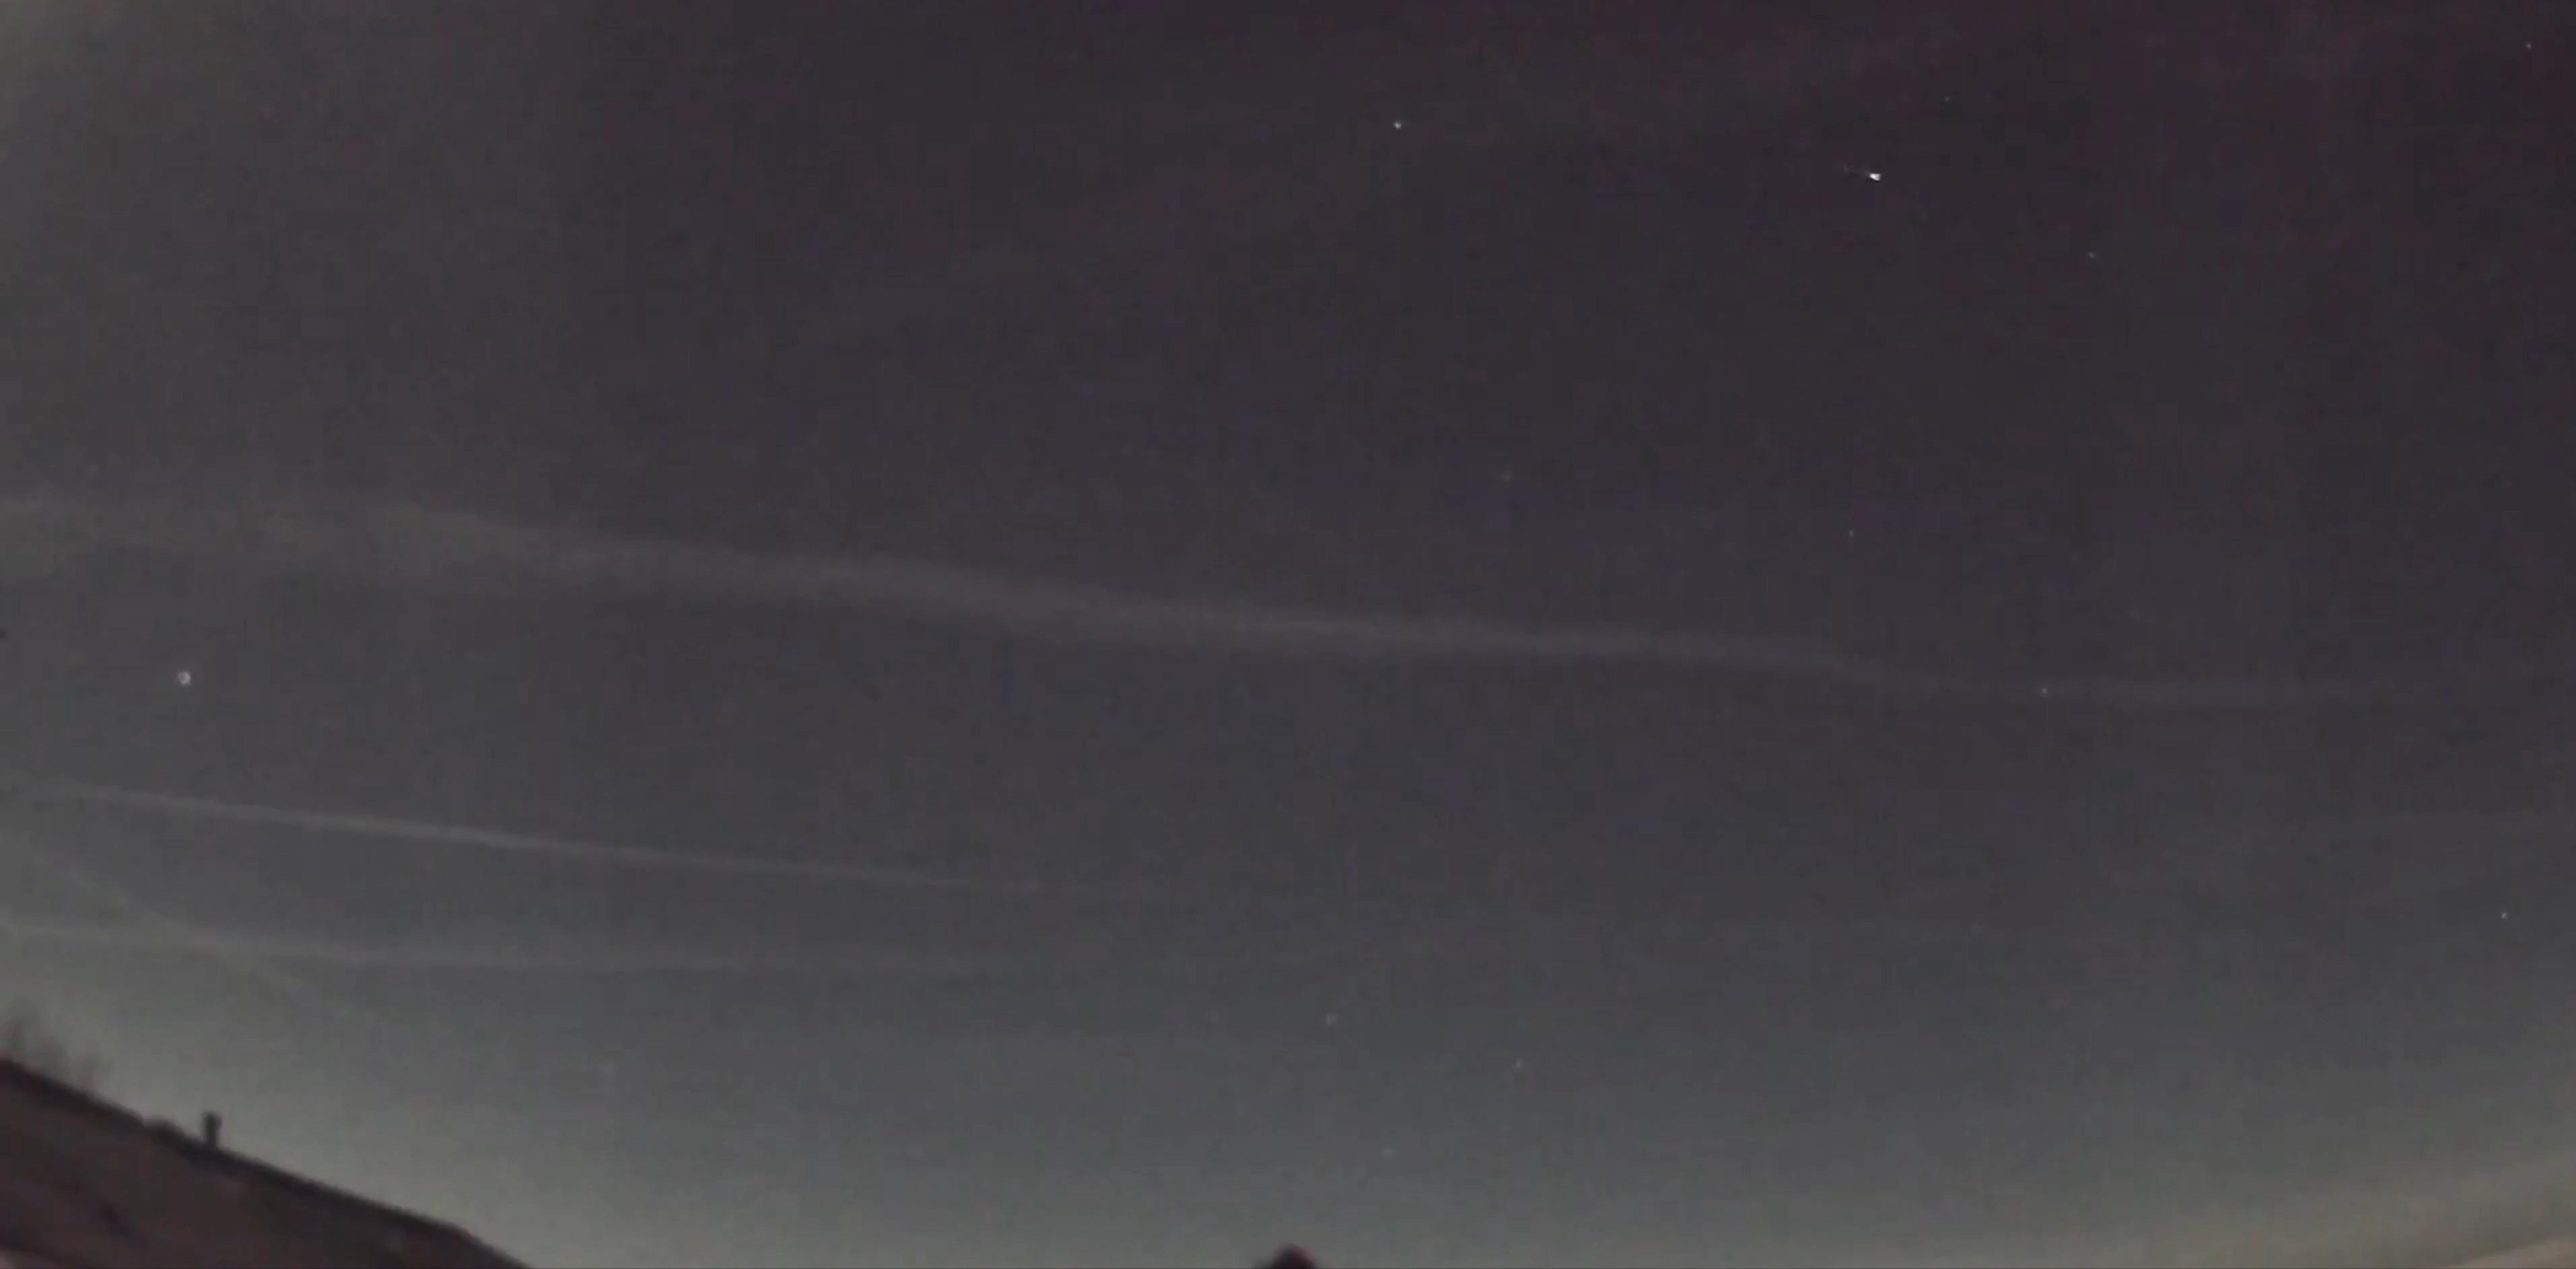meteorite: (1835, 153, 1884, 190)
